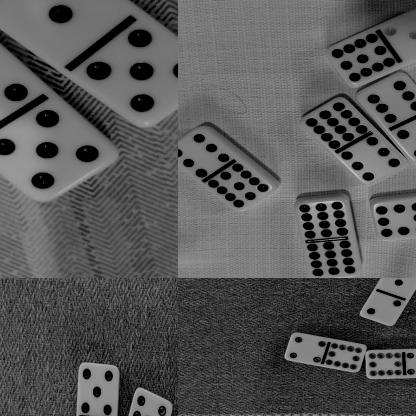pip-1: (0, 0, 126, 60), (378, 278, 416, 296)
pip-10: (324, 343, 368, 373), (366, 350, 405, 380)
pip-11: (327, 34, 396, 86), (208, 164, 273, 212)
pip-12: (305, 97, 369, 150), (296, 199, 350, 240), (305, 240, 362, 278)
pip-2: (360, 293, 402, 328)
pip-3: (385, 5, 416, 61)
pip-4: (286, 332, 327, 365)
pip-5: (0, 105, 118, 203), (87, 22, 178, 127), (0, 29, 29, 130), (77, 362, 119, 416), (398, 116, 416, 164)
pip-6: (342, 138, 408, 187), (358, 77, 416, 123), (178, 128, 228, 177)
pip-7: (128, 387, 173, 416), (404, 348, 416, 378)
pip-8: (373, 198, 416, 242)
